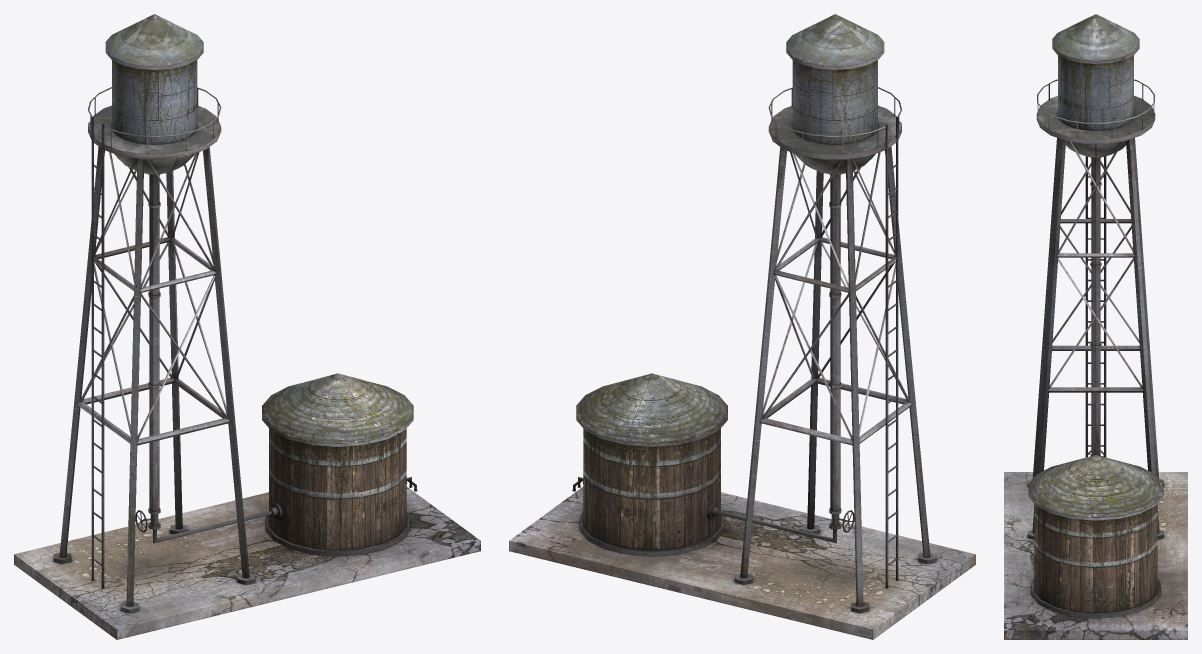
The model's file is water_tank.glb.
3 renders of one model, left to right at view 1: azimuth 30°, elevation 25°; view 2: azimuth 150°, elevation 25°; view 3: azimuth 270°, elevation 25°, orthographic. The views are drawn at different scales.
Visible parts, largest first — view 1: Water_Tank_FAB_T_Old_Water_Tank_0; view 2: Water_Tank_FAB_T_Old_Water_Tank_0; view 3: Water_Tank_FAB_T_Old_Water_Tank_0.
Part boxes in pixels (box(x1,y1,x2,y2)): Water_Tank_FAB_T_Old_Water_Tank_0: box(14, 14, 480, 639); Water_Tank_FAB_T_Old_Water_Tank_0: box(509, 14, 975, 639); Water_Tank_FAB_T_Old_Water_Tank_0: box(1004, 14, 1187, 639).
Size of the model in its own units: 14.51 by 21.59 by 7.1.
Materials: 1 (1 with a texture image).
